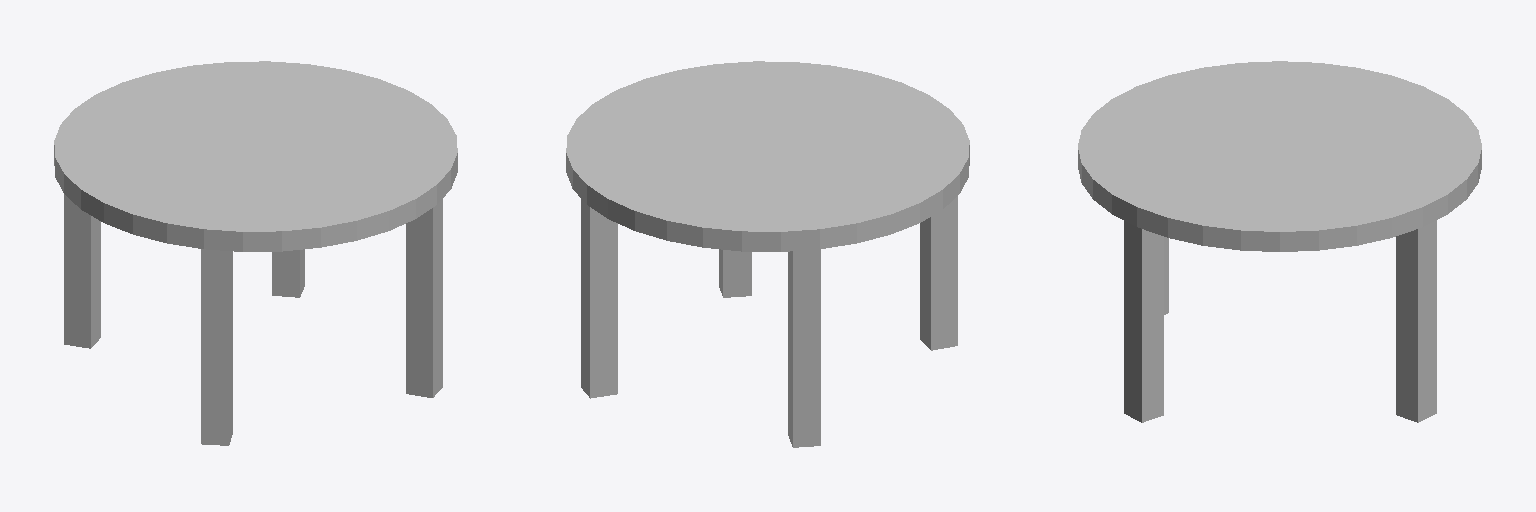
Rendered from table.obj.
3 views of the same model, side by side, from view 1: azimuth 30°, elevation 25°; view 2: azimuth 150°, elevation 25°; view 3: azimuth 270°, elevation 25° (orthographic).
Visible parts, largest first — view 1: Cube.002_Cube.012; view 2: Cube.002_Cube.012; view 3: Cube.002_Cube.012.
Boxes of the visible parts, <box> form: Cube.002_Cube.012: <box>54,61,457,445</box>; Cube.002_Cube.012: <box>566,61,969,447</box>; Cube.002_Cube.012: <box>1078,61,1481,422</box>.
Size of the model in its own units: 1.48 by 0.8838 by 1.48.